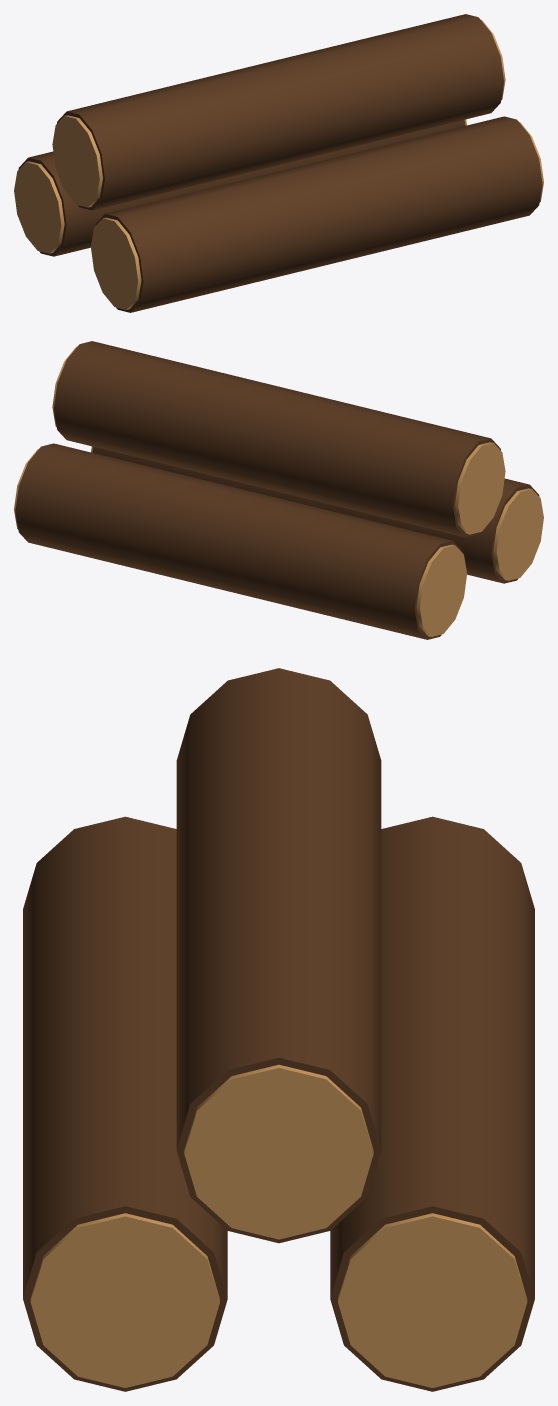
The model's file is logs.glb.
The picture shows the model from 3 angles, top to bottom: view 1: azimuth 30°, elevation 25°; view 2: azimuth 150°, elevation 25°; view 3: azimuth 270°, elevation 25°; orthographic projection. The views are drawn at different scales.
Visible parts, largest first — view 1: logs; view 2: logs; view 3: logs.
Part boxes in pixels (x1=…): logs: x1=14, y1=14, x2=543, y2=312; logs: x1=14, y1=341, x2=543, y2=639; logs: x1=23, y1=668, x2=534, y2=1391.
Size of the model in its own units: 1.83 by 0.72 by 1.
